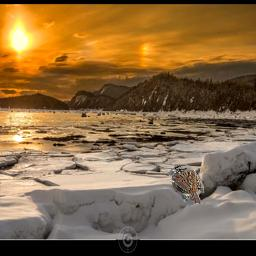Sparrow: (170, 164, 204, 204)
